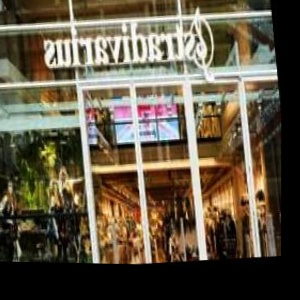stradivarius: (188, 0, 262, 18)
